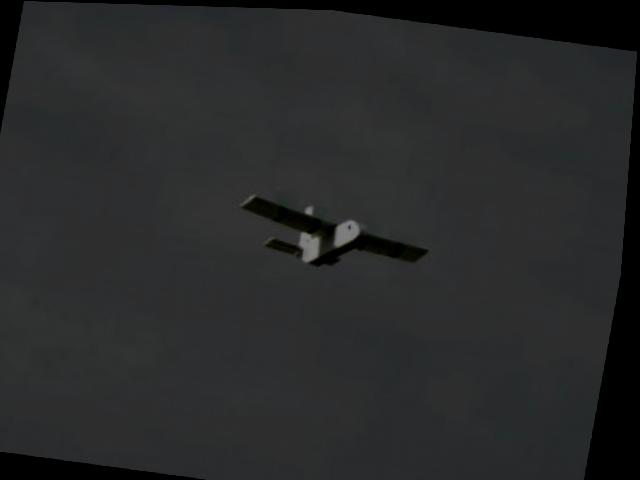uav: (231, 184, 444, 278)
